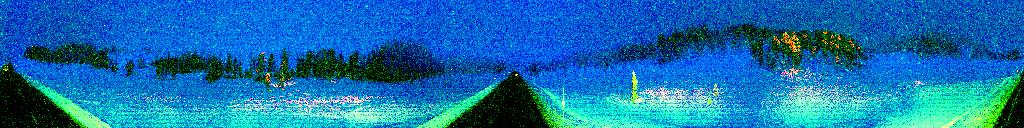pole: (562, 86, 566, 121)
